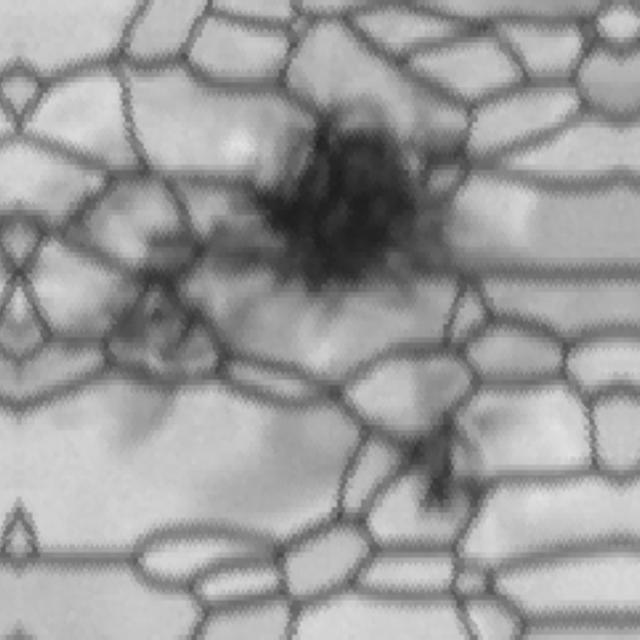good_void: (230, 89, 474, 327), (96, 219, 251, 395), (382, 404, 491, 530)
